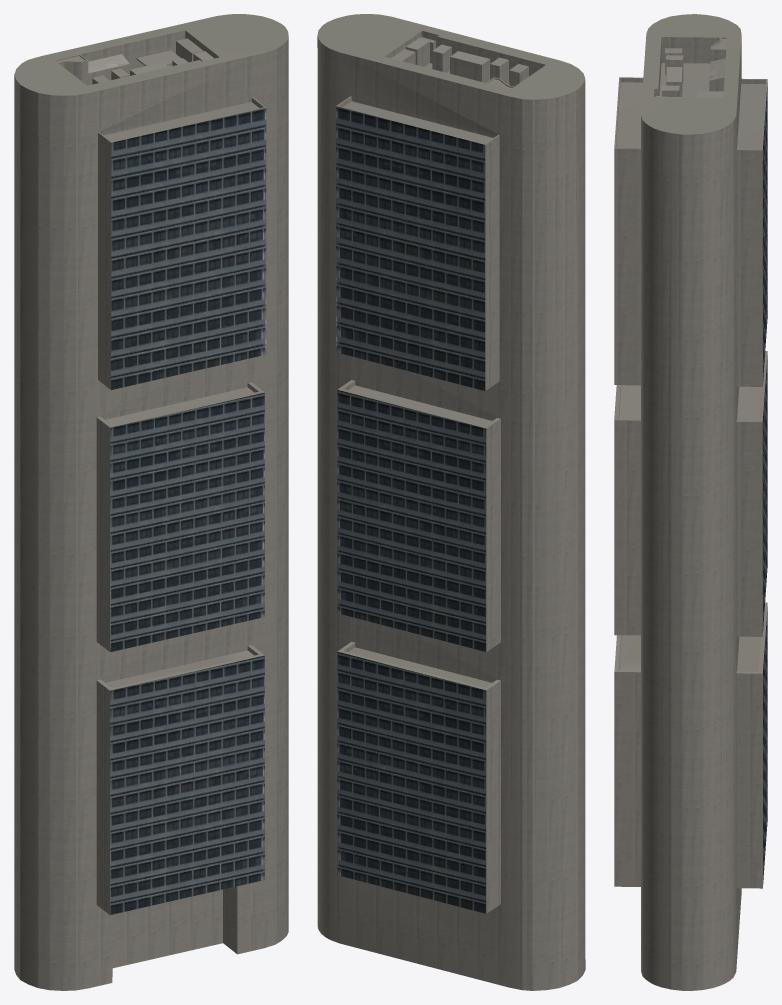
3 renders of one model, left to right at view 1: azimuth 30°, elevation 25°; view 2: azimuth 150°, elevation 25°; view 3: azimuth 270°, elevation 25°, orthographic. The views are drawn at different scales.
Parts seen in each view (by area): view 1: OCBC CENTRE; view 2: OCBC CENTRE; view 3: OCBC CENTRE.
Part boxes in pixels (x1,y1,x2,y2): OCBC CENTRE: (14,14,288,990); OCBC CENTRE: (317,14,585,990); OCBC CENTRE: (614,14,767,990).
Size of the model in its own units: 59.63 by 197 by 32.08.
2 materials, 2 textured.
